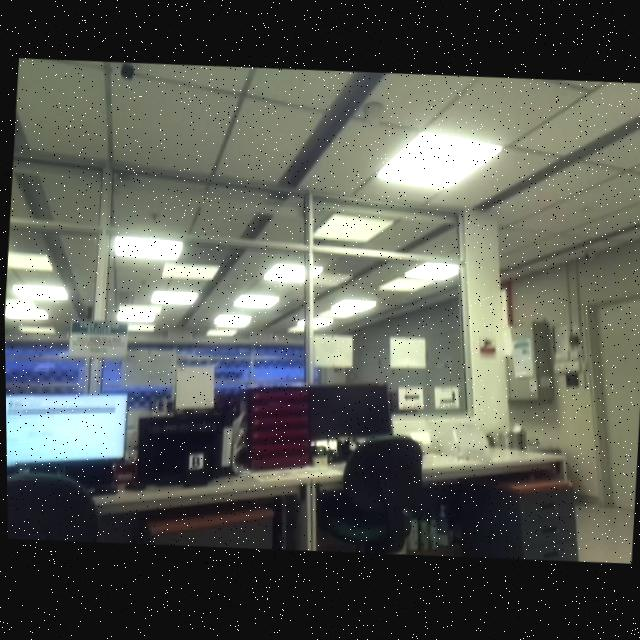B: (190, 457, 199, 470)
